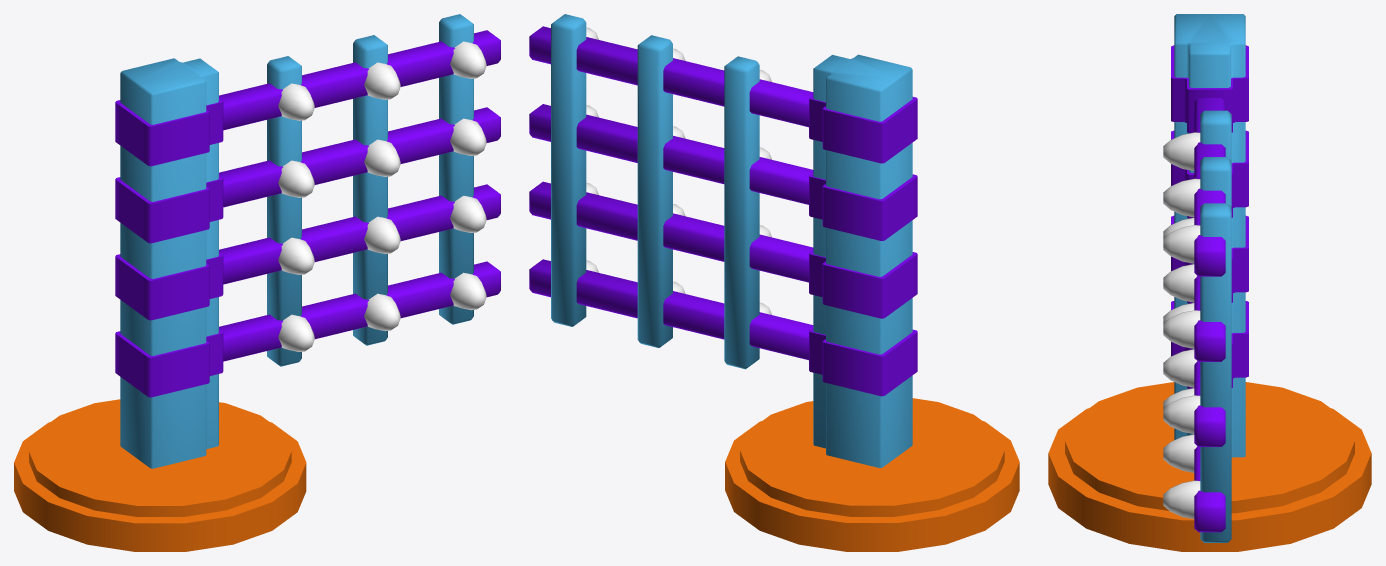
Rendered from Spinning_Spike_Gate_01.fbx.
The picture shows the model from 3 angles, left to right: view 1: azimuth 30°, elevation 25°; view 2: azimuth 150°, elevation 25°; view 3: azimuth 270°, elevation 25°; orthographic projection. The views are drawn at different scales.
Parts seen in each view (by area): view 1: Obstacle_Spinning_Spike_Gate_01_Gate, Obstacle_Spinning_Spike_Gate_01; view 2: Obstacle_Spinning_Spike_Gate_01_Gate, Obstacle_Spinning_Spike_Gate_01; view 3: Obstacle_Spinning_Spike_Gate_01_Gate, Obstacle_Spinning_Spike_Gate_01.
Part boxes in pixels (x1,y1,x2,y2): Obstacle_Spinning_Spike_Gate_01_Gate: [115, 14, 500, 468]; Obstacle_Spinning_Spike_Gate_01: [14, 399, 306, 551]; Obstacle_Spinning_Spike_Gate_01_Gate: [529, 14, 917, 467]; Obstacle_Spinning_Spike_Gate_01: [725, 398, 1019, 551]; Obstacle_Spinning_Spike_Gate_01_Gate: [1163, 14, 1248, 542]; Obstacle_Spinning_Spike_Gate_01: [1048, 382, 1371, 551].
Bounding box in the file's own units: 140 × 121 × 77.21.
1 material, 1 textured.
